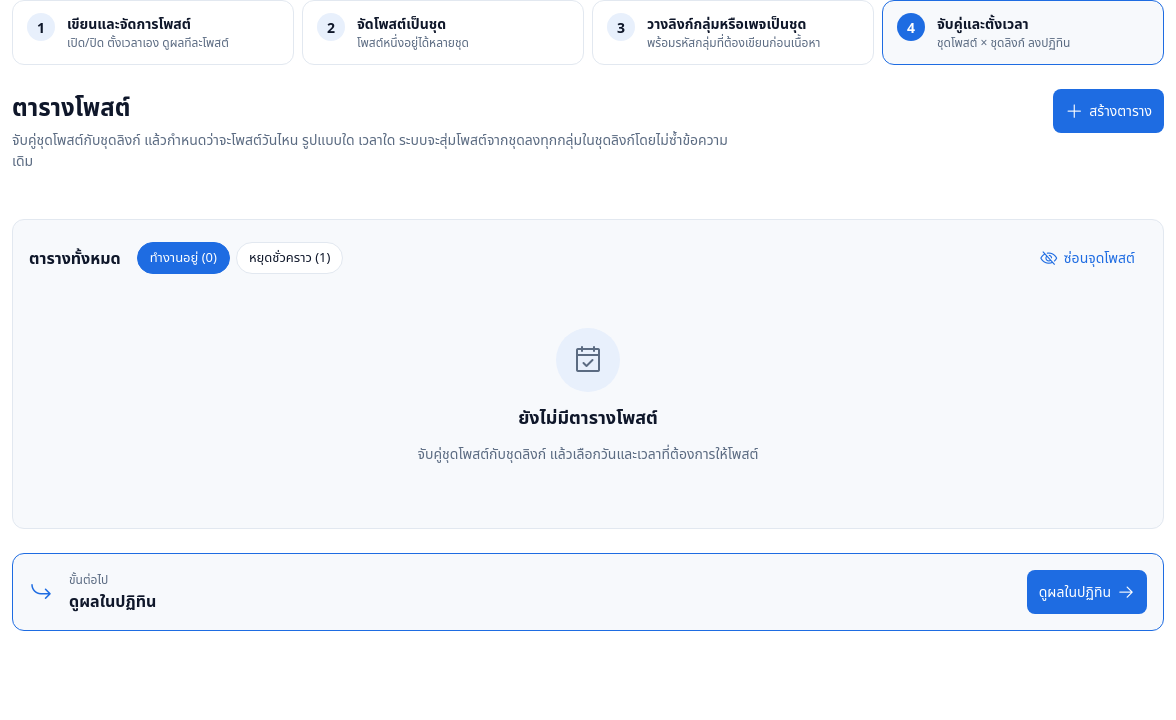
Test case: SchedulesPageComponent › the list › shows a paused schedule as paused, with no next run, and offers to resume it
Click the button with test id "filter-cancelled" at [290, 258], box [236, 242, 343, 274]
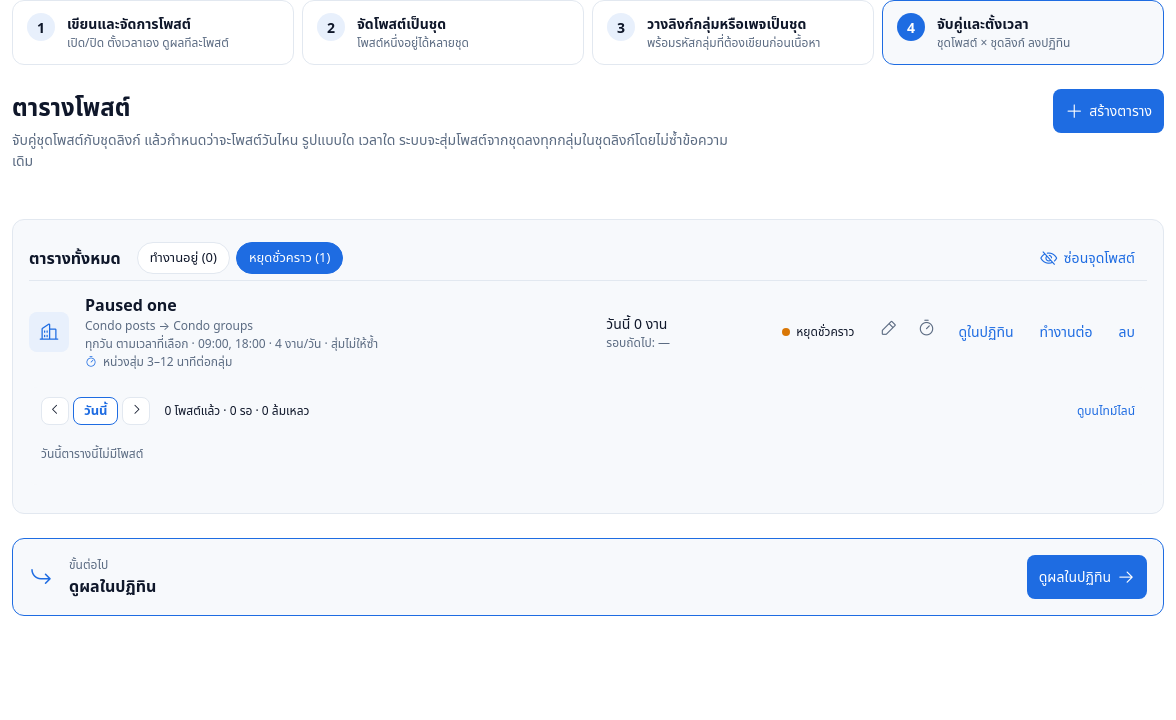
Now the element with class "status" reads "หยุดชั่วคราว", box [796, 323, 854, 340]
Now the button "ทำงานต่อ" is shown, box [1028, 310, 1104, 354]
